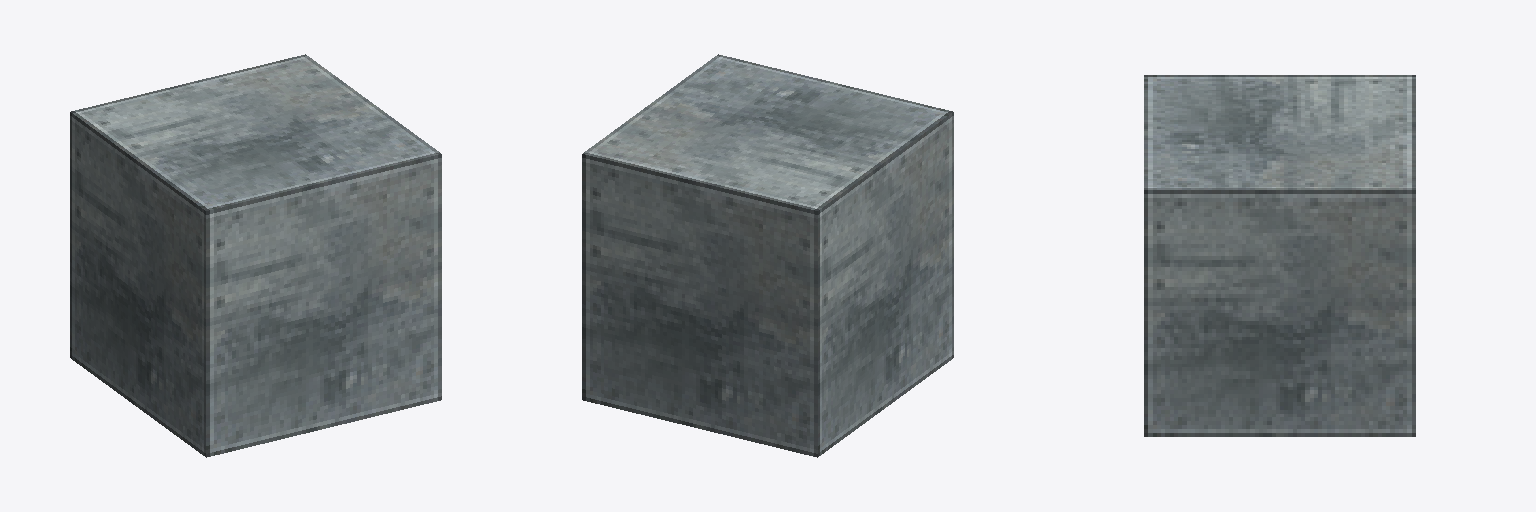
3 views of the same model, side by side, from view 1: azimuth 30°, elevation 25°; view 2: azimuth 150°, elevation 25°; view 3: azimuth 270°, elevation 25° (orthographic).
Parts seen in each view (by area): view 1: crate1; view 2: crate1; view 3: crate1.
Boxes of the visible parts, x1=… form: crate1: x1=70, y1=54, x2=441, y2=457; crate1: x1=582, y1=54, x2=953, y2=457; crate1: x1=1144, y1=75, x2=1415, y2=436.
Bounding box in the file's own units: 1 × 1 × 1.
2 materials, 1 textured.